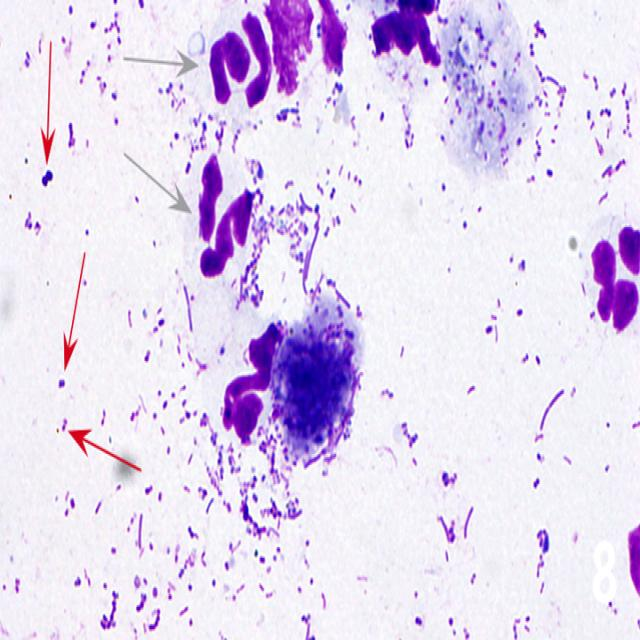Rod_bacteria: (4, 0, 639, 637)
